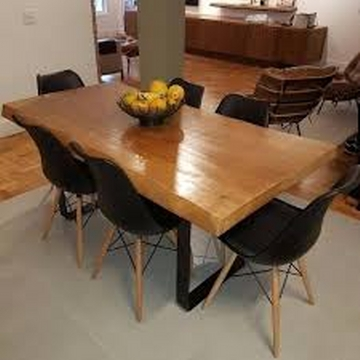kursi: (200, 164, 360, 358), (66, 139, 179, 321), (11, 113, 92, 267)
meja: (1, 82, 337, 313)
